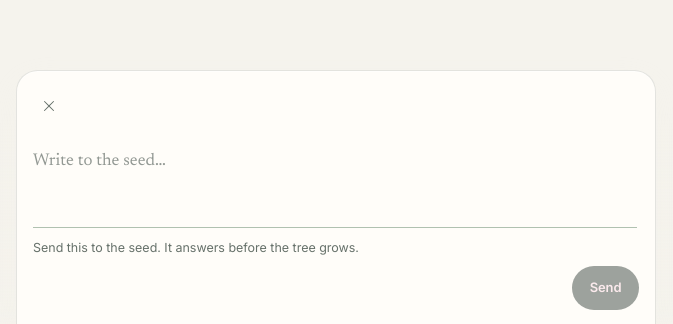
Test: voice capture › asks from the writing after a pause, without a button
Later steps or results of the test are not shown.
Step 1. Type "I felt sad and still grateful for the quiet in the kitchen." into the text box named "Journal entry" → [335, 189], box [33, 149, 637, 228]
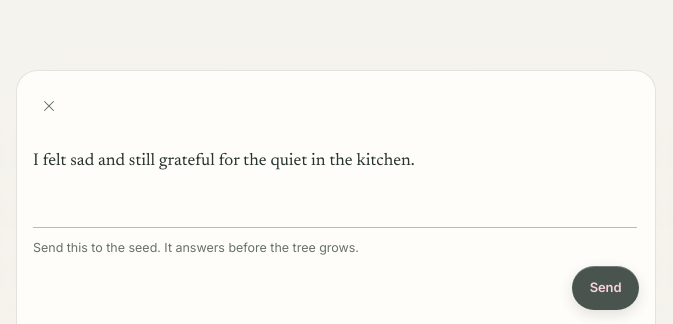
Step 2. Leave the text box named "Journal entry", box [33, 149, 637, 228]
Wait 80 ms
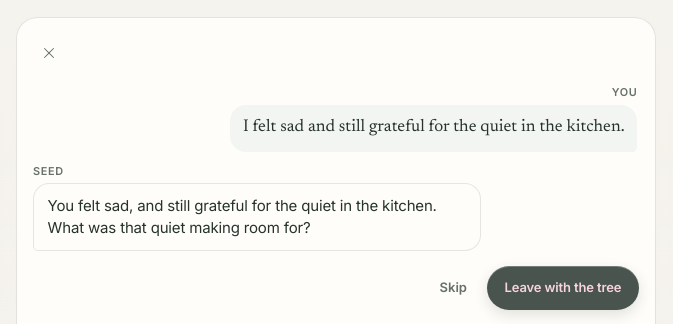
Expected: the text with id "sj-converse-ask" shows "the quiet in the kitchen", [48, 196, 437, 237]
